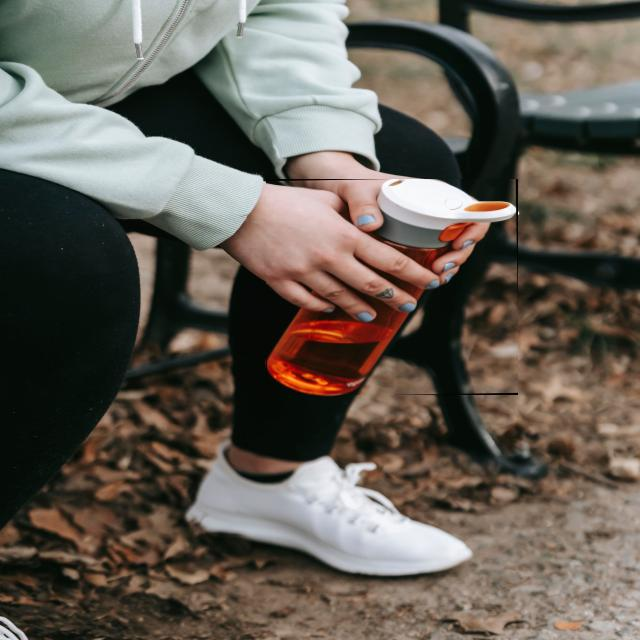Bottle: (266, 298, 405, 395)
